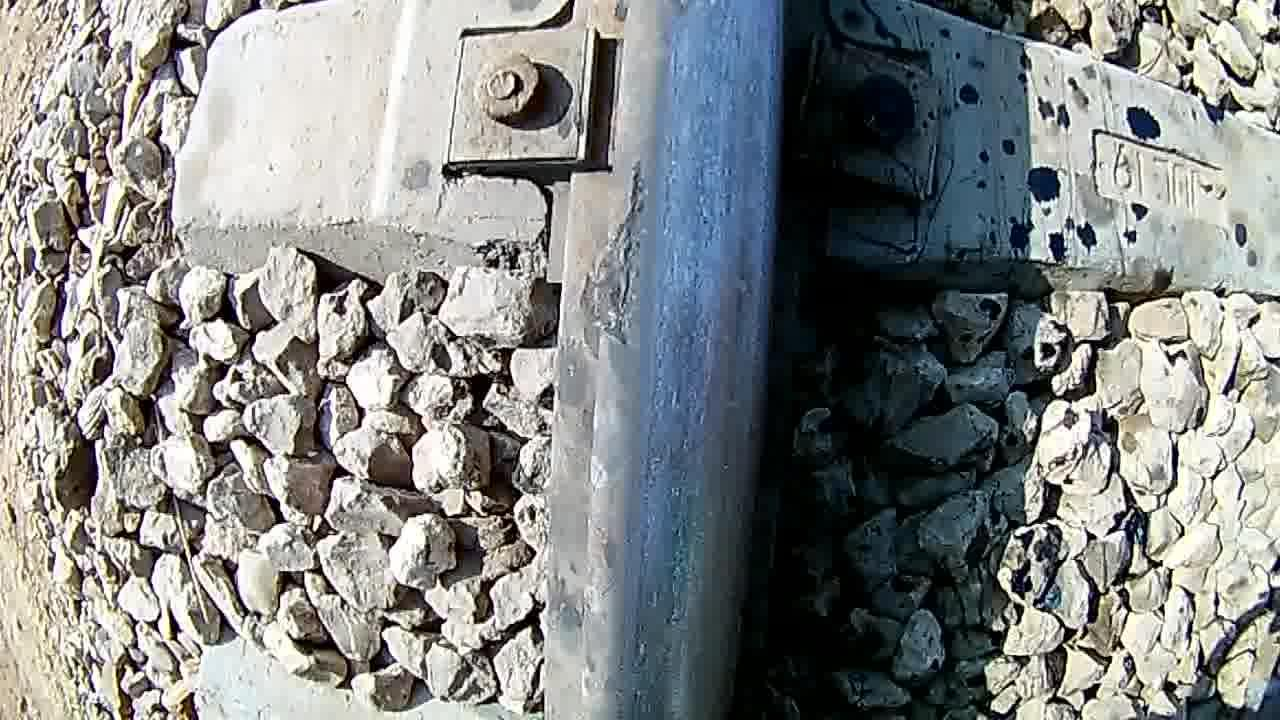clip_missing: (589, 2, 786, 720)
